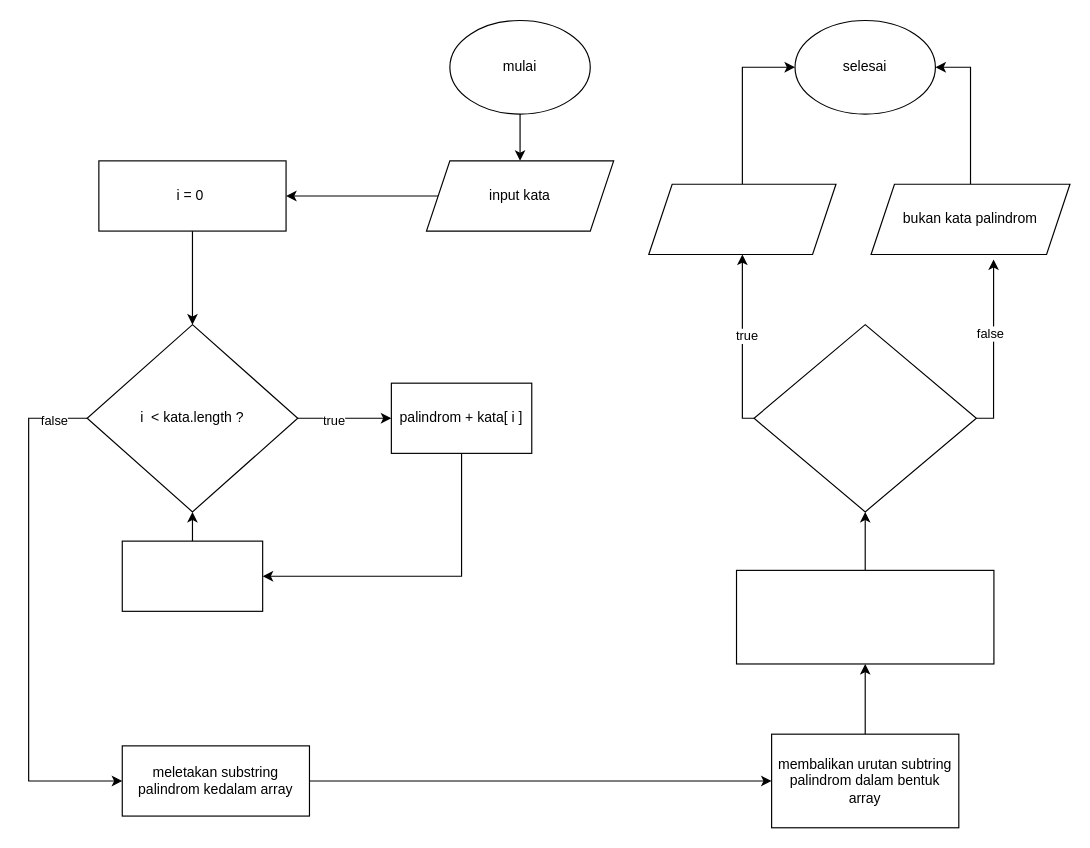
Image size: 1090x848. Some labels were removed from this diagram. Here are the shapes that lost their labels. From the top down, the centre of each, then its label:
At pixel 742 218: "kata palindrom".
At pixel 864 418: "apakah kata = palindrom?".
At pixel 192 575: "i++".
At pixel 864 616: "mengembalikan string baru dengan mengabungkan substring palindrom".
